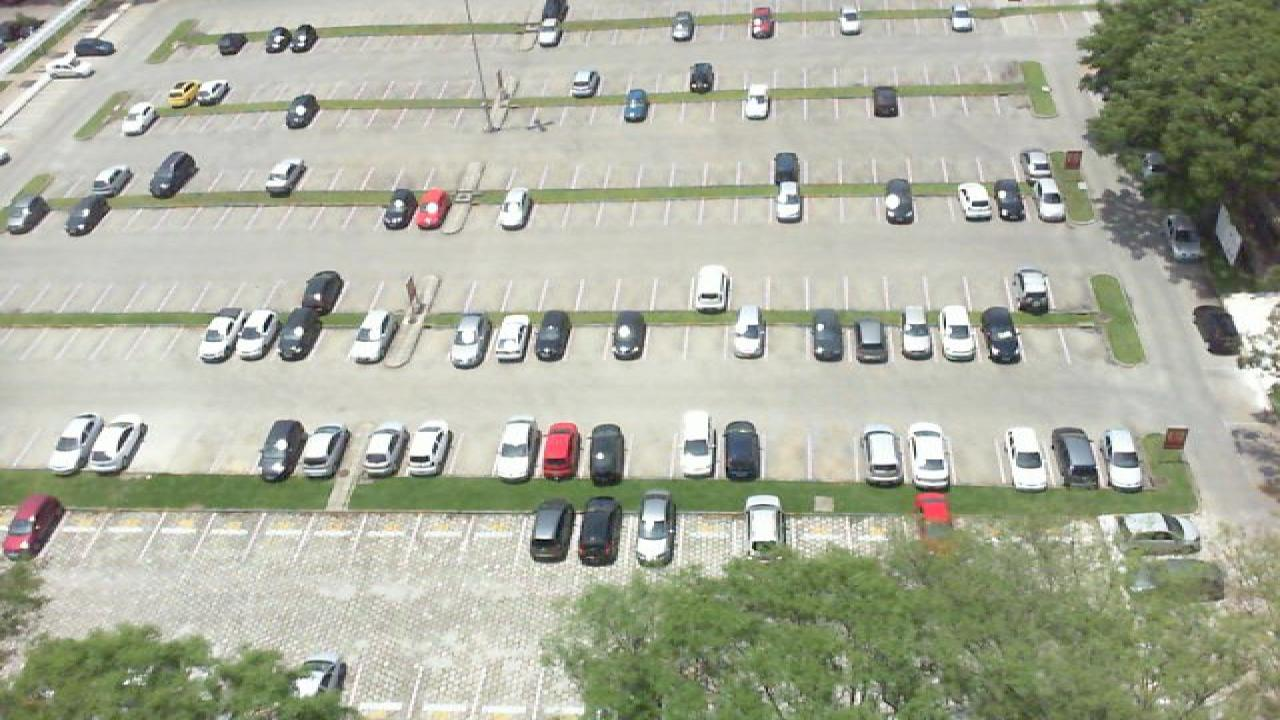Car: (2, 495, 64, 560), (1096, 509, 1204, 546), (1000, 426, 1054, 494), (46, 413, 104, 476), (632, 488, 678, 567), (574, 496, 624, 568), (526, 497, 578, 565), (906, 422, 954, 492), (740, 494, 788, 564), (292, 649, 352, 705), (258, 419, 310, 482), (676, 410, 722, 481), (858, 424, 908, 488), (1100, 428, 1150, 491), (356, 423, 412, 479), (1054, 428, 1104, 490), (298, 423, 350, 481), (492, 418, 540, 480), (404, 423, 456, 478), (978, 304, 1024, 366), (194, 306, 244, 363), (346, 306, 396, 363), (146, 150, 200, 202), (274, 307, 324, 363), (88, 421, 146, 469), (722, 420, 766, 482), (586, 423, 628, 487), (894, 305, 938, 364), (234, 307, 282, 361), (804, 307, 850, 363), (448, 312, 492, 370), (936, 305, 980, 362), (770, 151, 804, 223), (540, 422, 580, 481), (728, 304, 770, 360), (530, 310, 572, 364), (608, 308, 650, 362), (912, 493, 958, 542), (690, 264, 732, 316), (298, 270, 344, 317), (1012, 267, 1056, 316), (492, 310, 530, 366), (850, 315, 892, 365), (952, 180, 1000, 222), (1166, 213, 1208, 261), (878, 177, 918, 226), (2, 192, 46, 236), (64, 194, 108, 238), (262, 156, 308, 198), (494, 186, 534, 232), (534, 0, 570, 50), (994, 176, 1032, 222), (1032, 178, 1070, 222), (382, 186, 418, 232), (88, 163, 134, 198), (118, 100, 160, 136), (414, 188, 448, 231), (738, 82, 774, 122), (282, 93, 320, 130), (566, 67, 604, 99), (620, 87, 652, 125), (44, 56, 96, 79), (164, 80, 204, 109), (1008, 147, 1042, 181), (686, 61, 718, 96), (870, 84, 902, 118), (194, 79, 232, 107), (746, 7, 778, 40), (836, 2, 866, 36), (262, 25, 296, 54), (214, 30, 250, 57), (948, 2, 978, 34), (670, 9, 698, 43), (288, 23, 320, 52), (72, 37, 118, 57)
